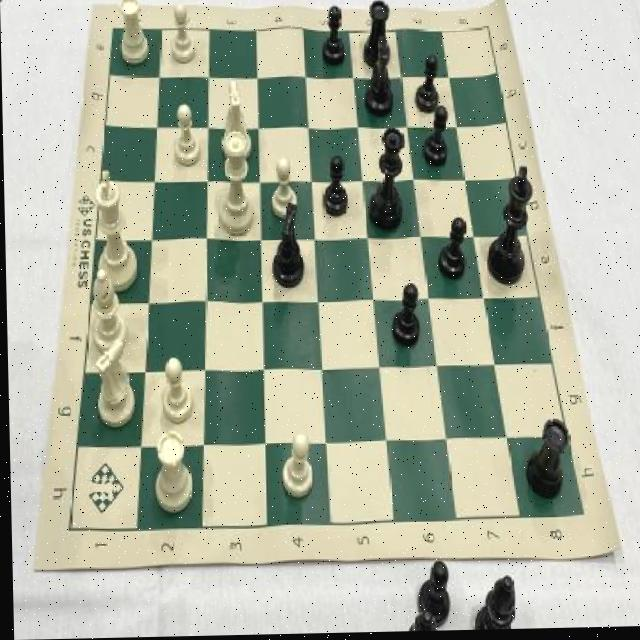black-bishop: (483, 165, 536, 293)
black-king: (262, 203, 308, 292), (363, 36, 395, 122)
black-knight: (434, 212, 470, 285), (317, 152, 352, 221), (386, 282, 420, 352), (420, 103, 451, 172), (317, 3, 347, 67), (412, 53, 441, 118)
black-pawn: (363, 124, 409, 235)
black-queen: (521, 416, 570, 506), (359, 0, 394, 77)
black-rook: (80, 266, 130, 355)
white-bishop: (84, 167, 138, 293)
white-king: (86, 339, 138, 432), (217, 77, 257, 165)
white-knight: (155, 350, 194, 429), (272, 427, 312, 503), (169, 100, 202, 170), (266, 154, 299, 222), (168, 0, 198, 66)
white-pawn: (210, 131, 258, 240)
white-queen: (149, 430, 195, 519), (114, 0, 153, 70)
